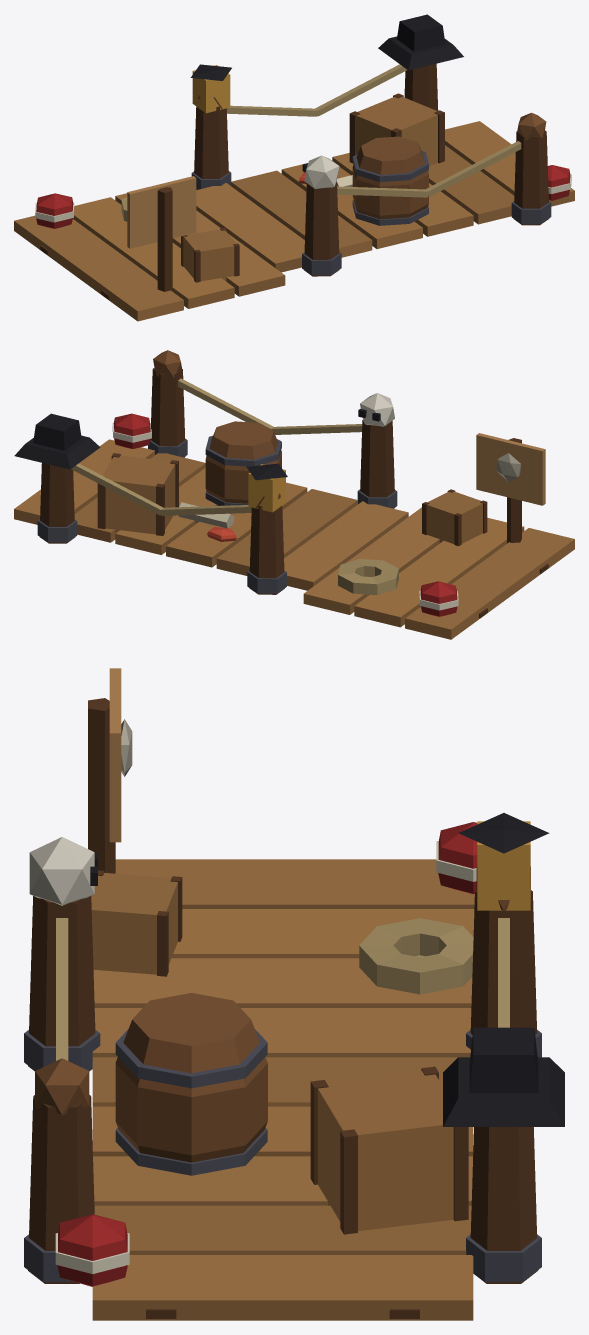
The model's file is Decor_PirateShip_Pier.fbx.
The picture shows the model from 3 angles, top to bottom: view 1: azimuth 30°, elevation 25°; view 2: azimuth 150°, elevation 25°; view 3: azimuth 270°, elevation 25°; orthographic projection. The views are drawn at different scales.
Parts seen in each view (by area): view 1: Pier_Body; view 2: Pier_Body; view 3: Pier_Body.
Part boxes in pixels (x1,y1,x2,y2): Pier_Body: (14,14,574,321); Pier_Body: (14,350,574,639); Pier_Body: (24,668,564,1320).
Bounding box in the file's own units: 13 × 3.25 × 6.7.
